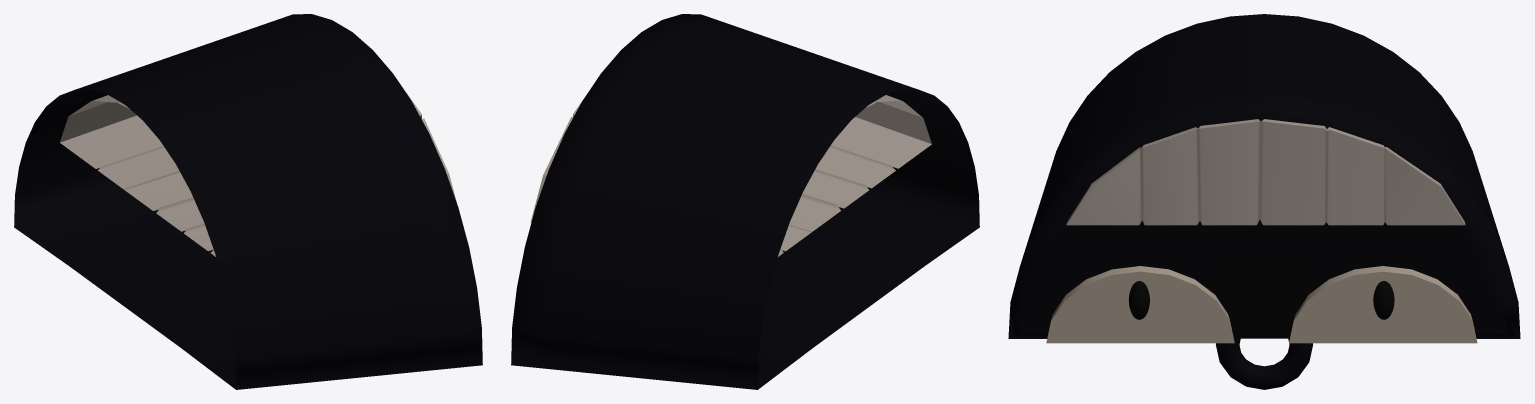
File: Pulse Mine.fbx
3 renders of one model, left to right at view 1: azimuth 30°, elevation 25°; view 2: azimuth 150°, elevation 25°; view 3: azimuth 270°, elevation 25°, orthographic.
Parts seen in each view (by area): view 1: pCylinder5; view 2: pCylinder5; view 3: pCylinder5.
Part boxes in pixels (x1,y1,x2,y2): pCylinder5: (14,14,482,389); pCylinder5: (511,14,979,389); pCylinder5: (1008,14,1520,389).
Bounding box in the file's own units: 2.51 × 2.97 × 4.56.
